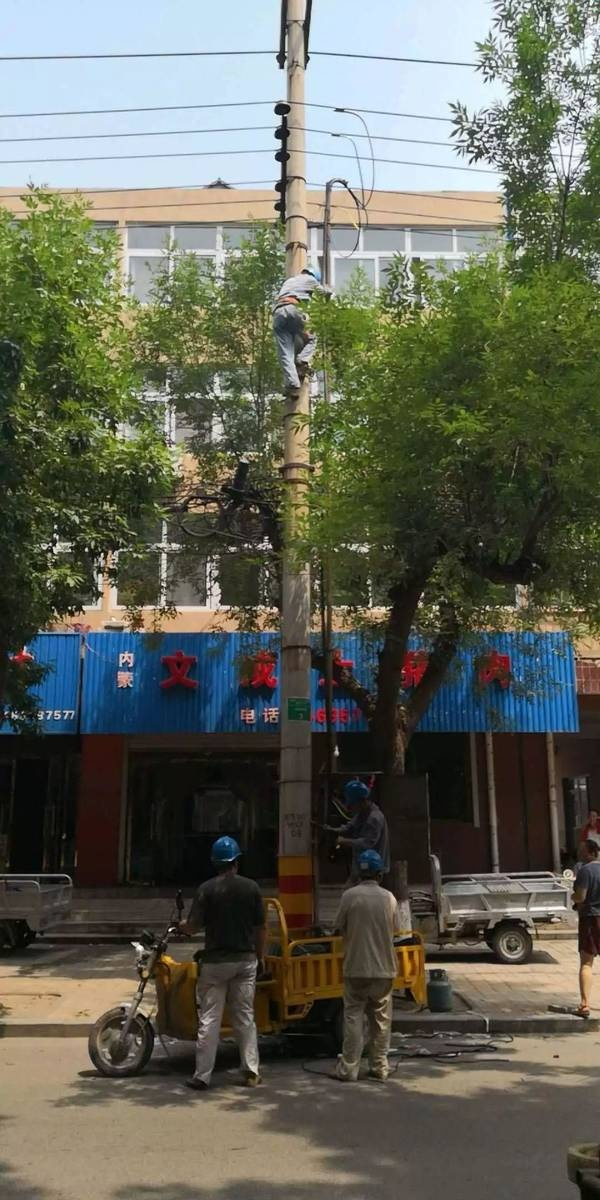blue: (212, 836, 240, 873), (357, 850, 384, 884), (343, 779, 369, 812)
none: (575, 837, 597, 864)
